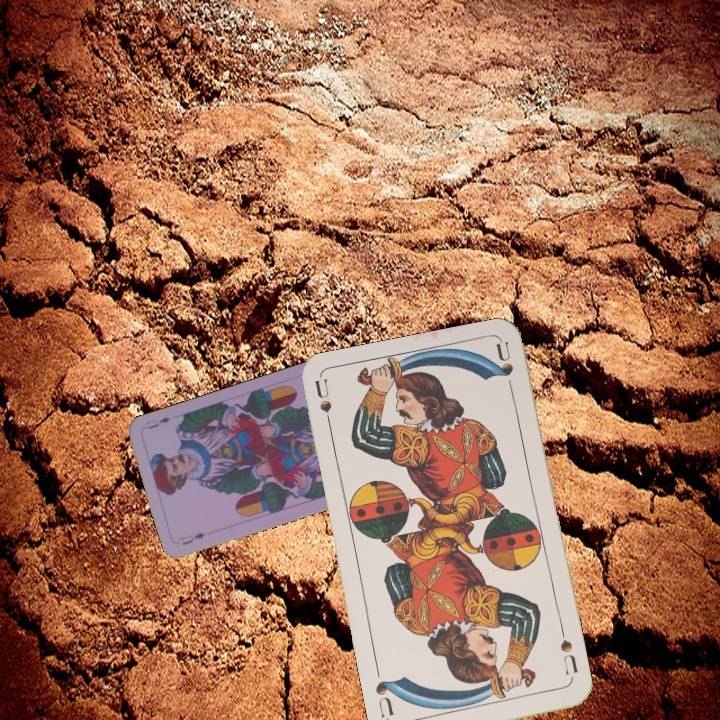EU: (176, 528, 208, 548)
SU: (309, 377, 335, 436), (556, 635, 581, 677)
